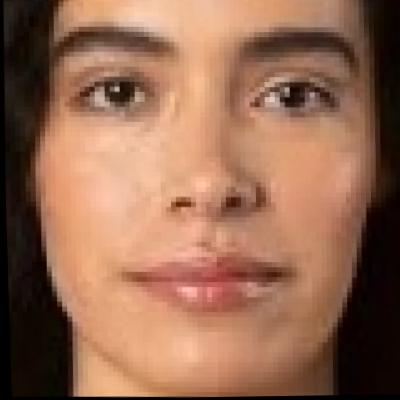netural: (45, 2, 376, 372)
